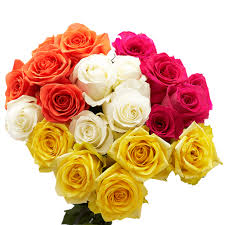lale: (171, 121, 221, 188), (111, 132, 174, 180), (25, 120, 78, 172), (93, 171, 147, 220), (54, 147, 99, 203), (103, 86, 155, 129), (74, 57, 119, 104), (167, 78, 212, 122), (21, 49, 82, 81), (38, 82, 86, 122), (68, 112, 116, 152), (62, 23, 110, 62), (3, 97, 42, 144), (143, 54, 189, 92), (109, 26, 158, 61), (0, 67, 42, 102), (143, 107, 181, 138)
